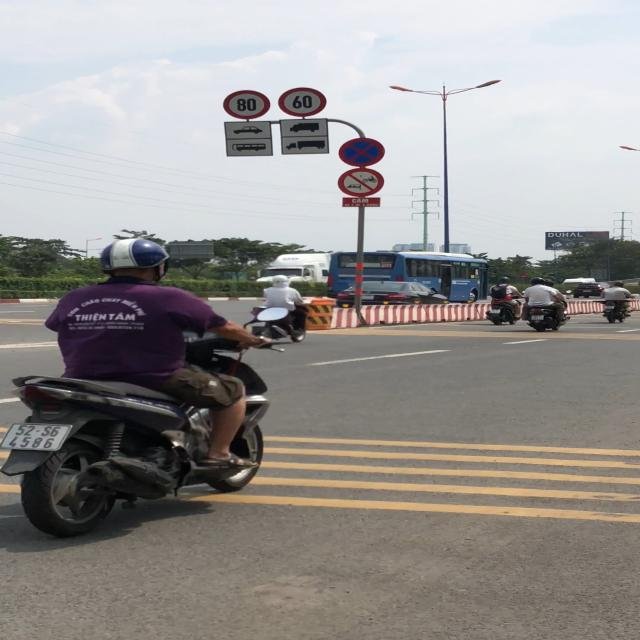Bien bao cam dung xe va do xe: (338, 136, 387, 168)
Bien bao toc do toi da cho phep: (223, 89, 274, 120), (278, 87, 327, 119)
